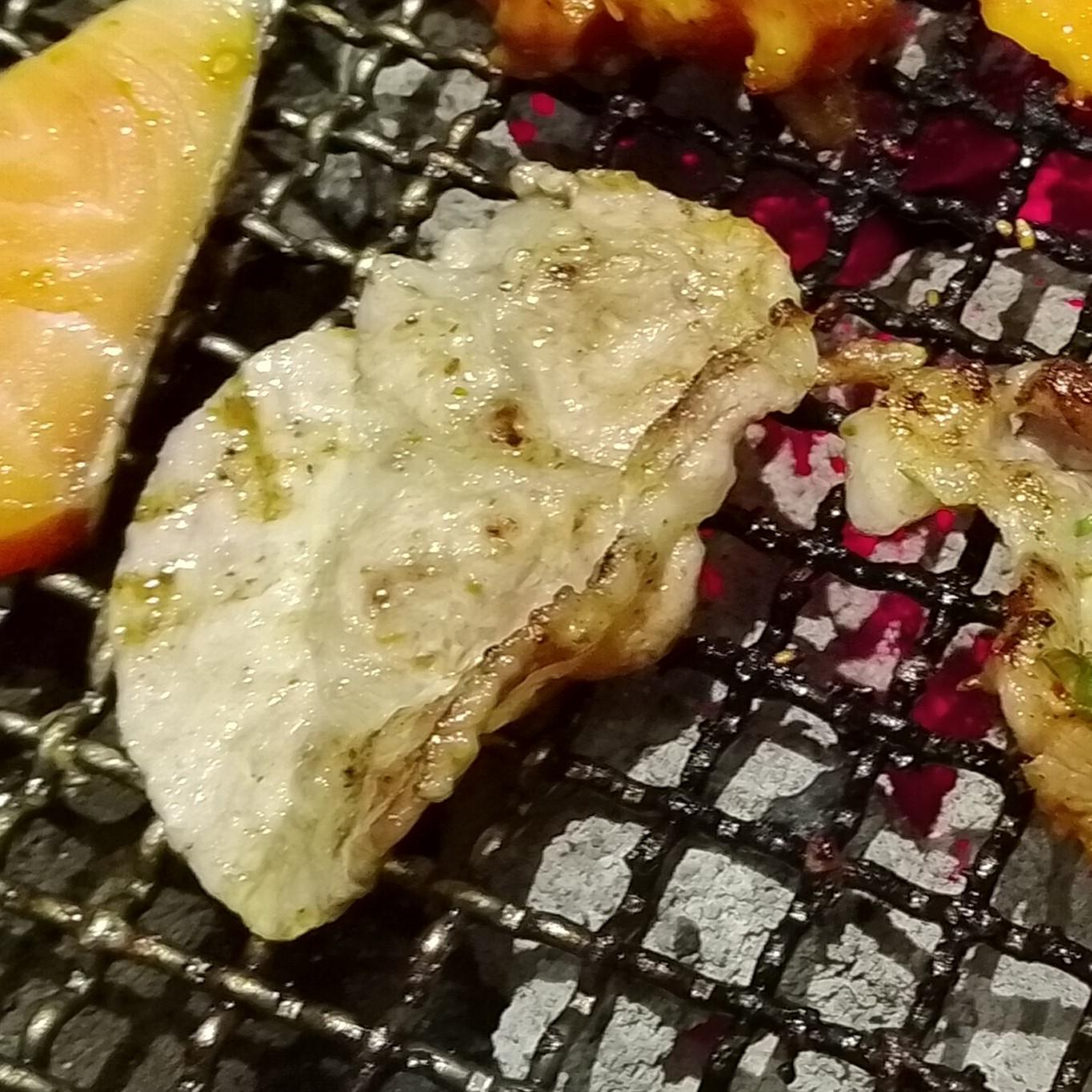Overcooked: (813, 309, 1091, 875)
Undercooked: (0, 0, 273, 583)
Well-Cooked: (103, 168, 824, 945)
